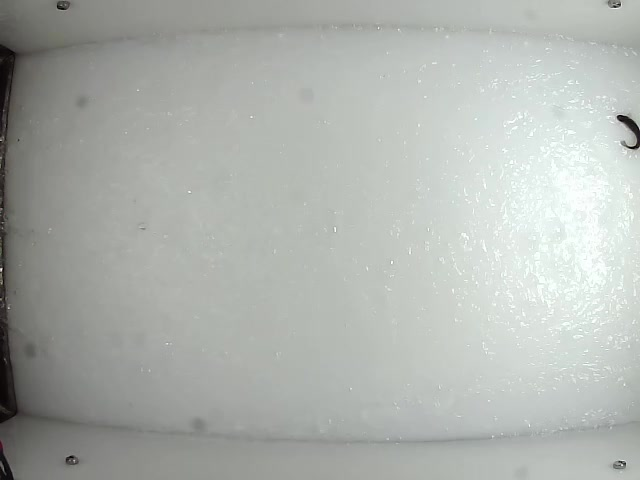fish: (612, 112, 640, 151)
